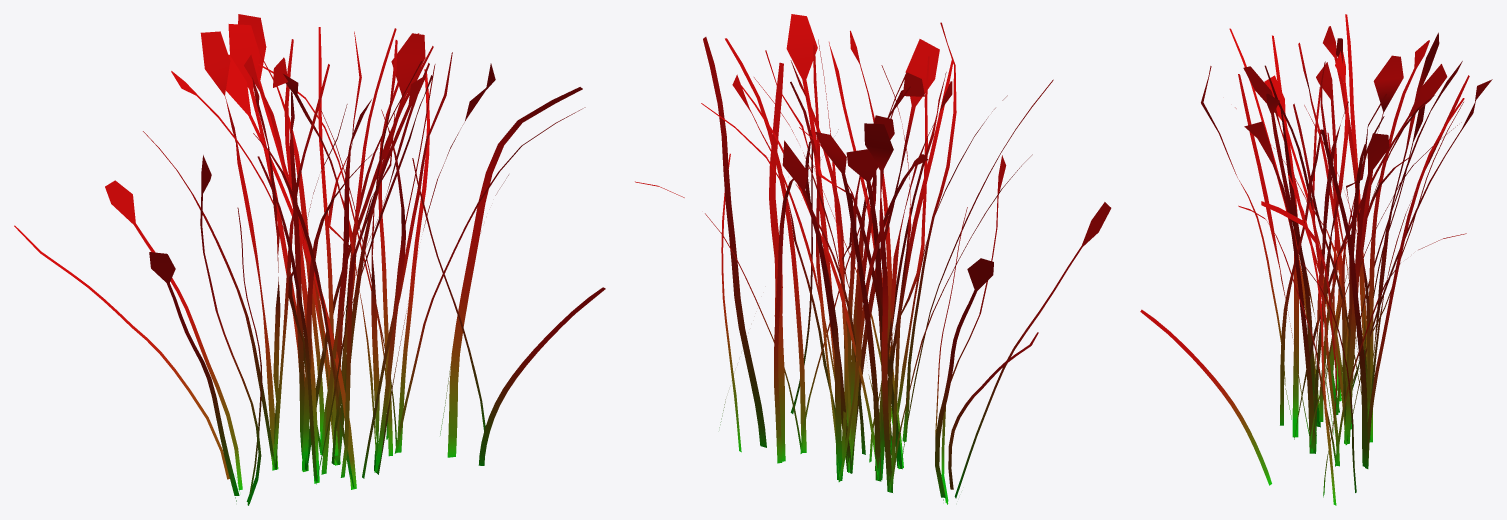
File: Var6_LOD1.fbx
The picture shows the model from 3 angles, left to right: view 1: azimuth 30°, elevation 25°; view 2: azimuth 150°, elevation 25°; view 3: azimuth 270°, elevation 25°; orthographic projection. The views are drawn at different scales.
Visible parts, largest first — view 1: _9254_Var6_LOD1; view 2: _9254_Var6_LOD1; view 3: _9254_Var6_LOD1.
Boxes of the visible parts, left/top/right/bottom form: _9254_Var6_LOD1: left=14, top=14, right=605, bottom=505; _9254_Var6_LOD1: left=635, top=14, right=1111, bottom=504; _9254_Var6_LOD1: left=1140, top=14, right=1492, bottom=505.
Size of the model in its own units: 168 by 154 by 125.
